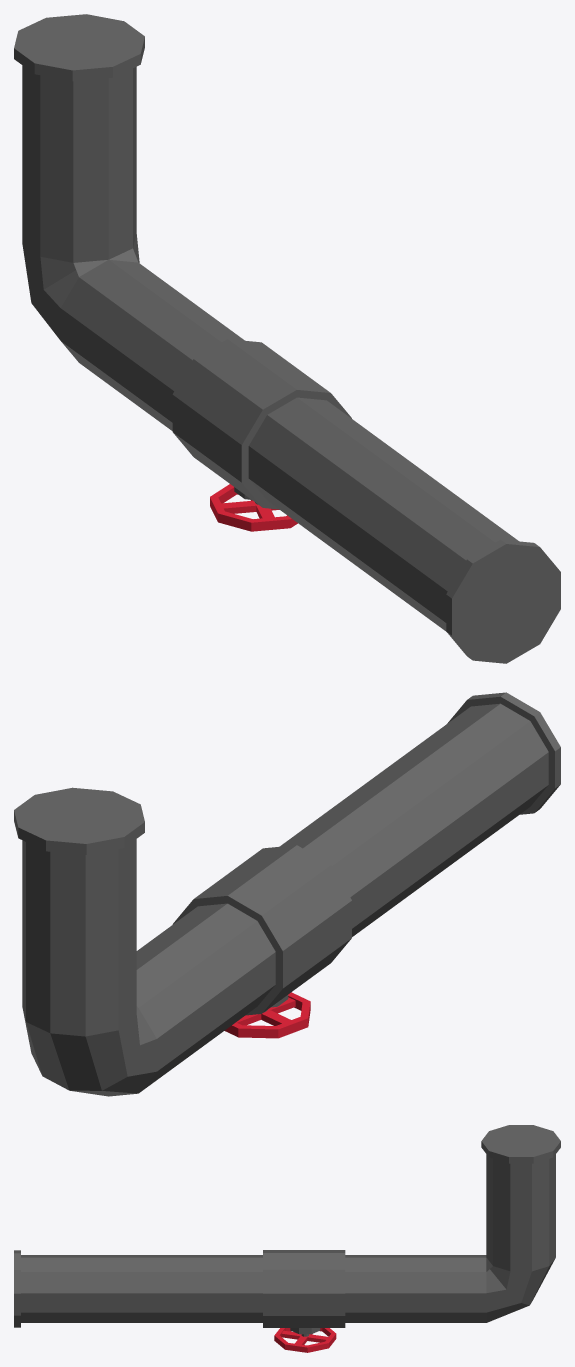
File: Pipe_1_texture.fbx
3 renders of one model, top to bottom at view 1: azimuth 30°, elevation 25°; view 2: azimuth 150°, elevation 25°; view 3: azimuth 270°, elevation 25°, orthographic. The views are drawn at different scales.
Parts seen in each view (by area): view 1: Pipe; view 2: Pipe; view 3: Pipe.
Boxes of the visible parts, x1,y1,x2,y2 form: Pipe: (14, 14, 560, 663); Pipe: (14, 692, 560, 1096); Pipe: (14, 1125, 560, 1352).
Bounding box in the file's own units: 35.18 × 102 × 254.
